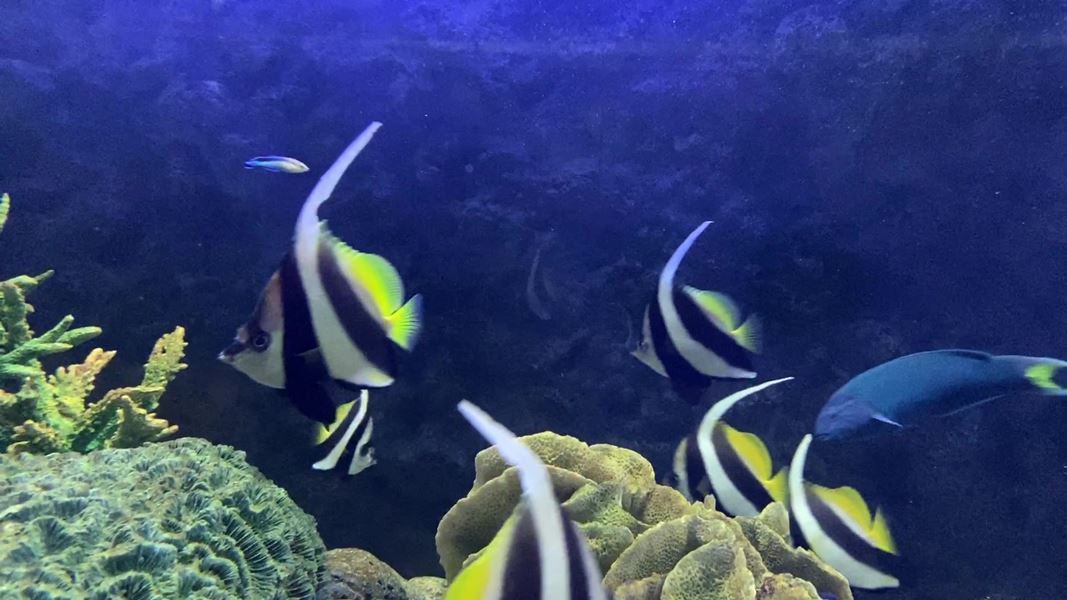Bluesteak cleaner wrasse: (226, 147, 317, 181)
